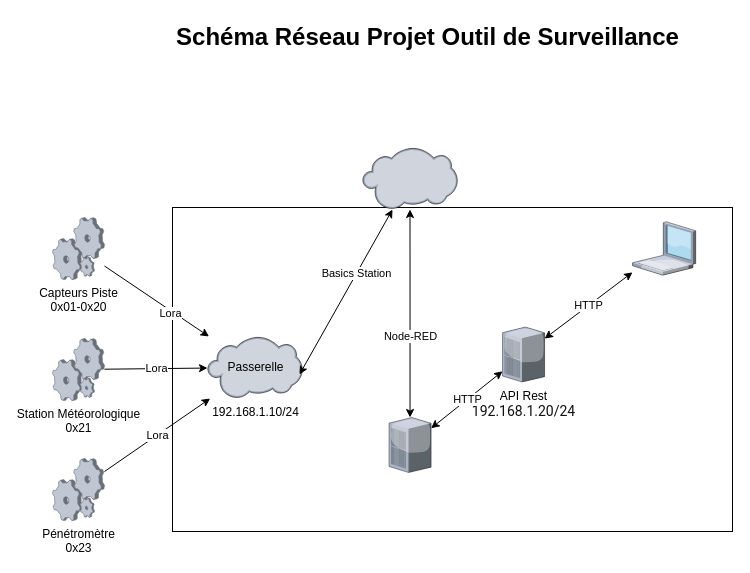
The diagram is 750 pixels wide and 573 high, and some of its shapes have lost their labels. Each missing label, with the centre of its shape:
"Base de Données 192.168.1.20/24" goes at [409,444].
"IHM WinFrom Opérateur 192.168.1.x/24" goes at [663,248].
"TTN" goes at [409,178].
